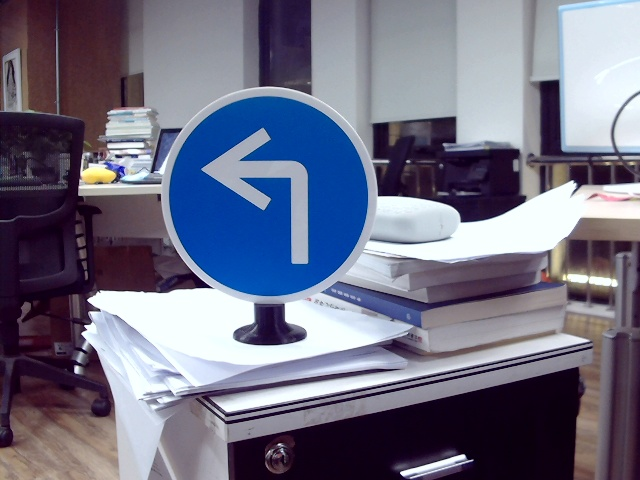turn_left: (198, 124, 324, 266)
